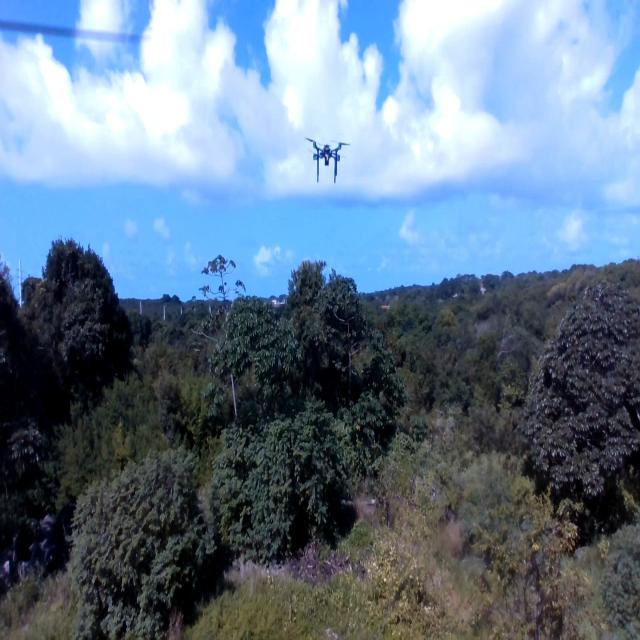-uav-: (304, 126, 349, 198)
